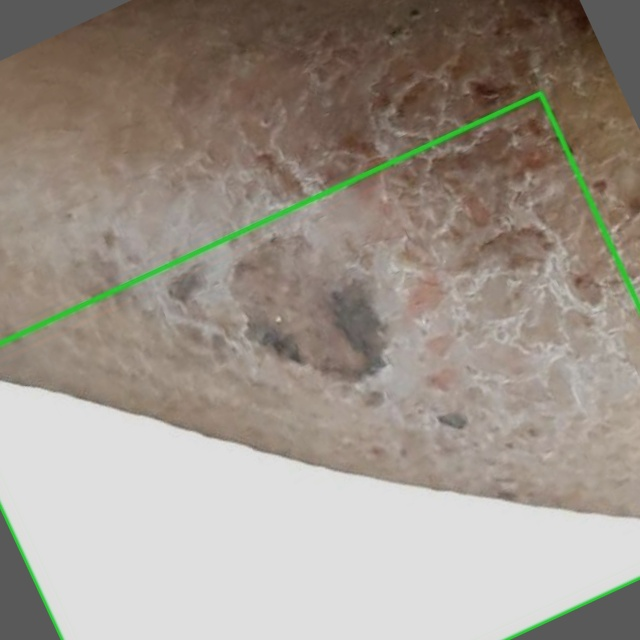Eczema: (0, 93, 639, 639)
